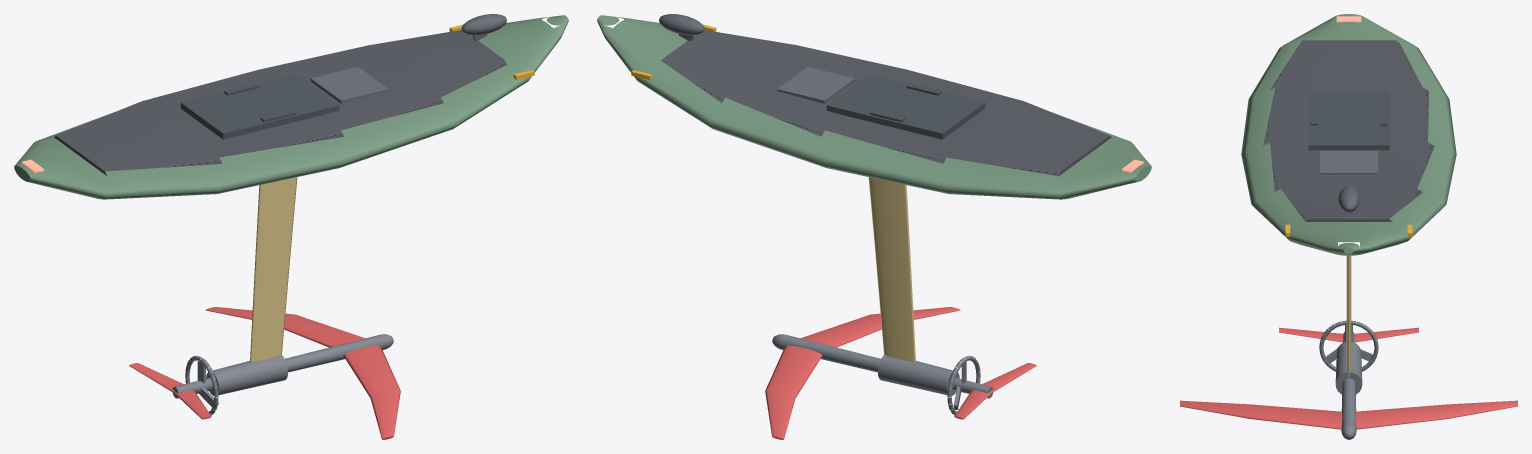
Rendered from hydrofoil.glb.
The picture shows the model from 3 angles, left to right: view 1: azimuth 30°, elevation 25°; view 2: azimuth 150°, elevation 25°; view 3: azimuth 270°, elevation 25°; orthographic projection. The views are drawn at different scales.
Visible parts, largest first — view 1: pad_eva_deck_grip, hull_carbon_board, mast_suspension_foil, battery_waterproof_pack, brake_foil_wing_stabilizer, motor_foil_pod_prop, controller_watercooled_esc, cockpit_handheld_remote; view 2: pad_eva_deck_grip, hull_carbon_board, mast_suspension_foil, battery_waterproof_pack, brake_foil_wing_stabilizer, motor_foil_pod_prop, controller_watercooled_esc, cockpit_handheld_remote; view 3: pad_eva_deck_grip, hull_carbon_board, brake_foil_wing_stabilizer, battery_waterproof_pack, motor_foil_pod_prop, controller_watercooled_esc, mast_suspension_foil, cockpit_handheld_remote.
Part boxes in pixels (x1,y1,x2,y2): pad_eva_deck_grip: [54, 30, 506, 175]; hull_carbon_board: [14, 15, 568, 199]; mast_suspension_foil: [250, 177, 297, 362]; battery_waterproof_pack: [180, 74, 339, 139]; brake_foil_wing_stabilizer: [129, 307, 400, 439]; motor_foil_pod_prop: [172, 334, 393, 415]; controller_watercooled_esc: [310, 67, 388, 103]; cockpit_handheld_remote: [461, 14, 506, 41]; pad_eva_deck_grip: [661, 30, 1111, 176]; hull_carbon_board: [597, 15, 1151, 199]; mast_suspension_foil: [868, 177, 915, 362]; battery_waterproof_pack: [826, 74, 985, 139]; brake_foil_wing_stabilizer: [765, 307, 1036, 439]; motor_foil_pod_prop: [772, 334, 993, 415]; controller_watercooled_esc: [777, 67, 855, 103]; cockpit_handheld_remote: [659, 14, 704, 41]; pad_eva_deck_grip: [1263, 40, 1434, 221]; hull_carbon_board: [1241, 14, 1456, 255]; brake_foil_wing_stabilizer: [1180, 327, 1517, 429]; battery_waterproof_pack: [1308, 91, 1389, 150]; motor_foil_pod_prop: [1319, 320, 1378, 439]; controller_watercooled_esc: [1320, 150, 1377, 174]; mast_suspension_foil: [1346, 255, 1351, 377]; cockpit_handheld_remote: [1338, 186, 1359, 212].
Bounding box in the file's own units: 2.06 × 1.19 × 1.16.
